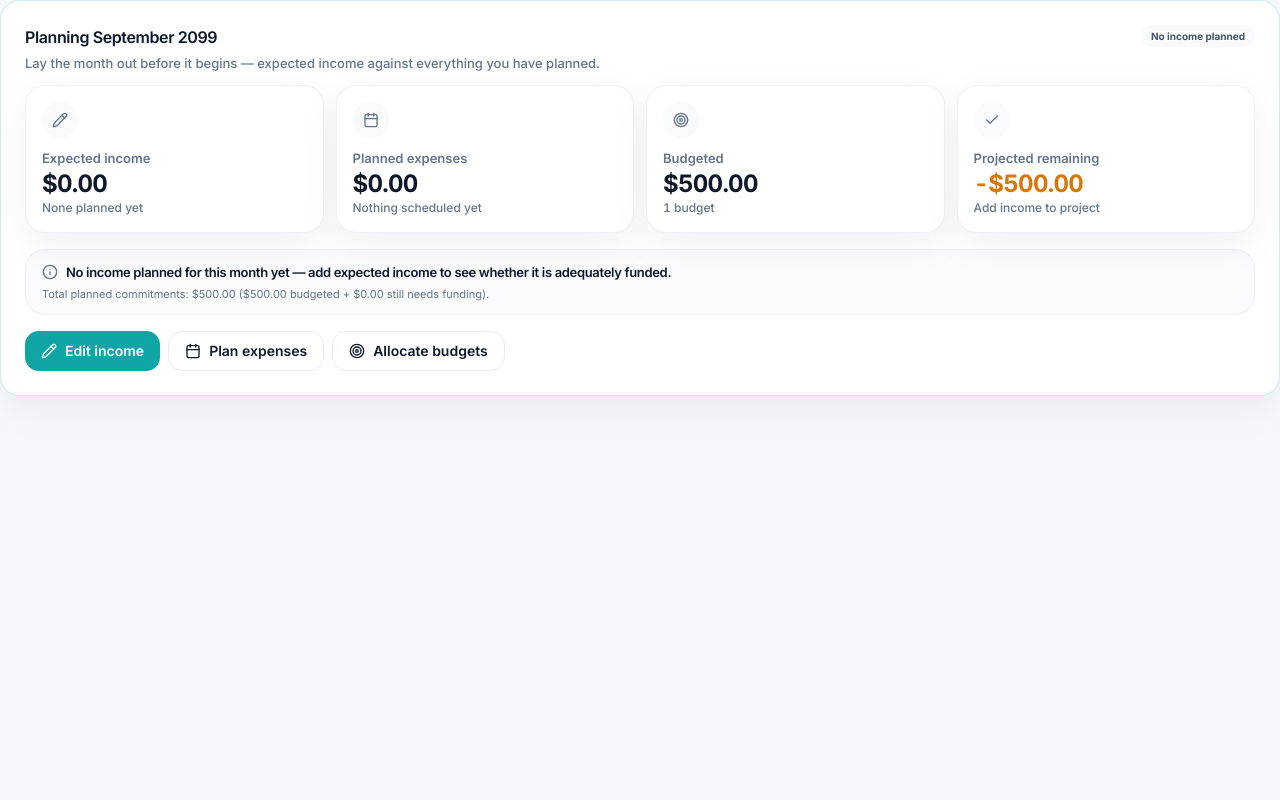
it: MonthPlanCard (FR-27) › asks for income before judging the month, and opens the shared income modal
Check: the text "No income planned" is shown, box top-left (1141, 25), bottom-right (1255, 47)
Check: the text "No income planned for this month yet" is shown, box top-left (66, 264), bottom-right (671, 280)
What coordinates should you click on to do the following:
click the button "Edit income"
I would click on:
 (93, 351)
Its box is top-left (25, 331), bottom-right (160, 371).
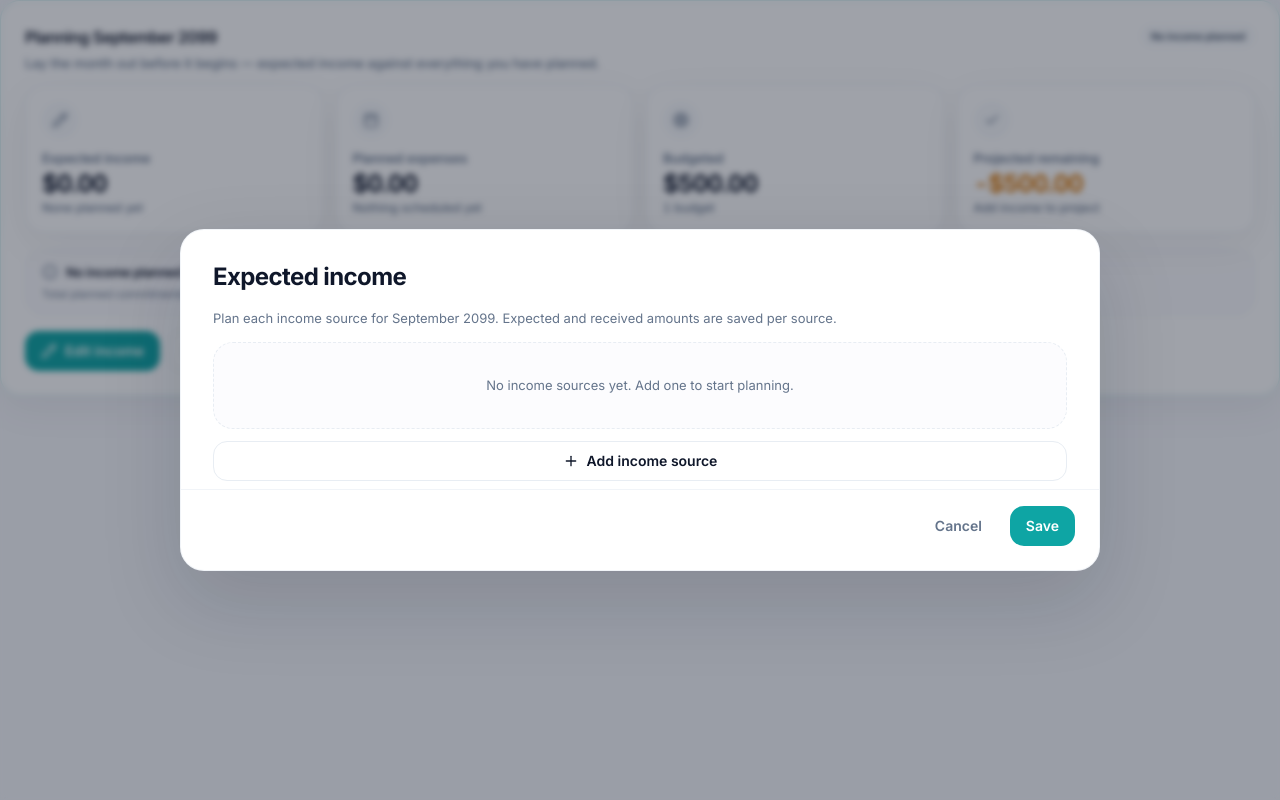
Check: the dialog is shown, box top-left (180, 229), bottom-right (1100, 571)
